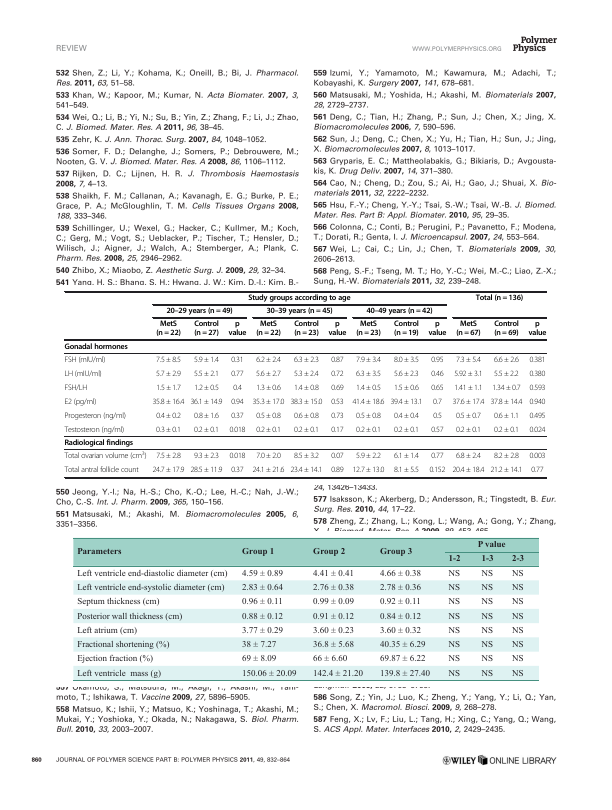borderless: (63, 290, 546, 477), (72, 536, 539, 680)
cell: (75, 569, 228, 579), (75, 583, 225, 593), (75, 612, 183, 622), (75, 640, 170, 650), (247, 294, 351, 303), (75, 597, 160, 608), (64, 450, 147, 461), (75, 669, 161, 679), (75, 654, 153, 665), (265, 307, 334, 317), (64, 466, 140, 475), (165, 307, 233, 317), (365, 307, 433, 317), (64, 342, 129, 352), (64, 411, 127, 421), (64, 439, 134, 448), (75, 626, 137, 636), (64, 425, 125, 435), (241, 669, 297, 679), (379, 654, 426, 665), (155, 320, 182, 339), (193, 320, 220, 339), (255, 320, 282, 339), (293, 320, 320, 339), (355, 320, 382, 339), (393, 320, 420, 339), (455, 320, 482, 339), (493, 320, 520, 339), (312, 669, 363, 679), (379, 669, 430, 679), (379, 640, 426, 650), (241, 597, 283, 608), (312, 597, 354, 608), (379, 597, 421, 608), (76, 548, 122, 558), (475, 294, 524, 303), (241, 569, 283, 579), (312, 569, 354, 579), (379, 569, 421, 579), (241, 583, 283, 593), (312, 583, 354, 593), (379, 583, 421, 593), (241, 612, 283, 622), (312, 612, 354, 622), (379, 612, 421, 622), (241, 626, 283, 636), (312, 626, 354, 636), (379, 626, 421, 636), (312, 640, 354, 650), (64, 355, 106, 365), (241, 654, 277, 665), (312, 654, 348, 665), (64, 369, 103, 379), (327, 320, 347, 339), (427, 320, 447, 339), (527, 320, 547, 339), (228, 320, 247, 339), (241, 640, 277, 650), (378, 548, 413, 558), (241, 548, 275, 558), (312, 548, 346, 558), (151, 397, 185, 407), (189, 397, 223, 407), (251, 397, 285, 407), (289, 397, 323, 407), (351, 397, 385, 407), (389, 397, 423, 407), (451, 397, 485, 407), (489, 397, 523, 407), (64, 397, 97, 407), (453, 383, 484, 393), (491, 383, 522, 393), (151, 466, 185, 475), (189, 466, 223, 475), (251, 466, 285, 475), (289, 466, 323, 475), (351, 466, 385, 475), (451, 466, 485, 475), (489, 466, 523, 475), (476, 541, 506, 551), (453, 369, 483, 379), (155, 355, 182, 365), (193, 355, 220, 365), (255, 355, 282, 365), (293, 355, 320, 365), (355, 355, 382, 365), (393, 355, 420, 365), (455, 355, 482, 365), (493, 355, 520, 365), (155, 369, 182, 379), (193, 369, 220, 379), (255, 369, 282, 379), (293, 369, 320, 379), (355, 369, 382, 379), (393, 369, 420, 379), (493, 369, 520, 379), (155, 383, 182, 393), (193, 383, 220, 393), (255, 383, 282, 393), (293, 383, 320, 393), (355, 383, 382, 393), (393, 383, 420, 393), (155, 411, 182, 421), (193, 411, 220, 421), (255, 411, 282, 421), (293, 411, 320, 421), (355, 411, 382, 421), (393, 411, 420, 421), (455, 411, 482, 421), (493, 411, 520, 421), (155, 425, 182, 435), (193, 425, 220, 435), (255, 425, 282, 435), (293, 425, 320, 435), (355, 425, 382, 435), (393, 425, 420, 435), (455, 425, 482, 435), (493, 425, 520, 435), (155, 452, 182, 461), (193, 452, 220, 461), (255, 452, 282, 461), (293, 452, 320, 461), (355, 452, 382, 461), (393, 452, 420, 461), (455, 452, 482, 461), (493, 452, 520, 461), (393, 466, 420, 475), (64, 383, 88, 393), (528, 355, 546, 365), (528, 369, 546, 379), (528, 383, 546, 393), (528, 397, 546, 407), (528, 411, 546, 421), (228, 425, 246, 435), (528, 425, 546, 435), (228, 452, 246, 461), (528, 452, 546, 461), (428, 466, 446, 475), (447, 597, 461, 608), (480, 597, 494, 608), (447, 654, 461, 665), (480, 654, 494, 665), (230, 355, 245, 365), (330, 355, 345, 365), (330, 383, 345, 393), (430, 383, 445, 393), (330, 397, 345, 407), (230, 411, 245, 421), (330, 411, 345, 421), (330, 425, 345, 435), (511, 597, 524, 608), (511, 654, 524, 665), (447, 555, 461, 565), (480, 555, 494, 565), (510, 555, 524, 565), (447, 569, 461, 579), (480, 569, 494, 579), (447, 583, 461, 593), (480, 583, 494, 593), (447, 612, 461, 622), (480, 612, 494, 622), (447, 626, 461, 636), (480, 626, 494, 636), (447, 640, 461, 650), (480, 640, 494, 650), (447, 669, 461, 679), (480, 669, 494, 679), (430, 355, 444, 365), (230, 369, 244, 379), (330, 369, 344, 379), (430, 369, 444, 379), (230, 397, 244, 407), (430, 425, 444, 435), (330, 452, 345, 461), (330, 466, 345, 475), (511, 569, 524, 579), (511, 583, 524, 593), (511, 612, 524, 622), (511, 626, 524, 636), (511, 640, 524, 650), (511, 669, 524, 679), (430, 452, 444, 461), (230, 466, 244, 475), (530, 466, 544, 475), (232, 383, 243, 393), (432, 397, 443, 407), (432, 411, 443, 421)
